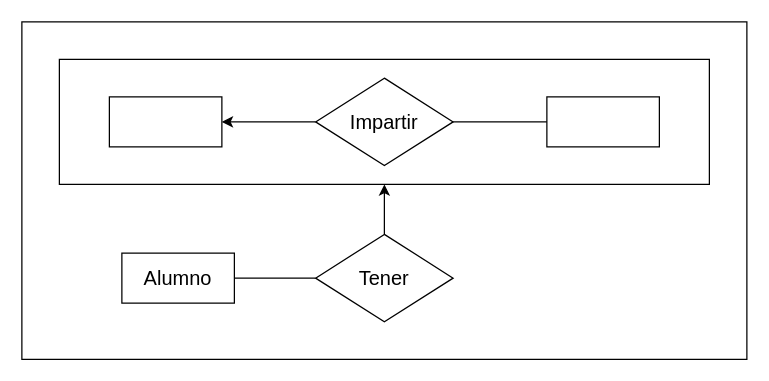
The diagram is 769 pixels wide and 381 high, and some of its shapes have lost their labels. The shapes that lost their labels are listed below. From the top down, each one's centre as x and y in pixels, then its label:
point (165, 121): Profesor
point (602, 121): Materia
